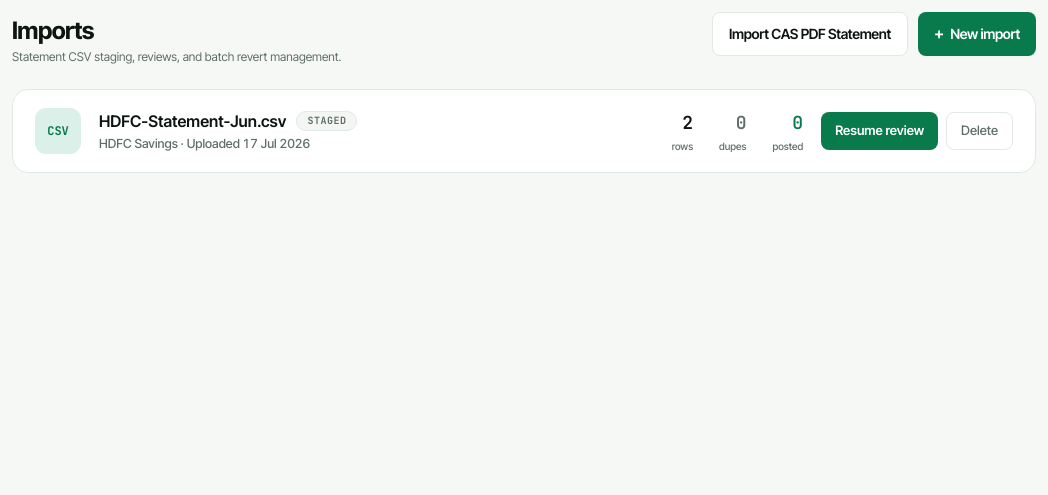
Test: ImportWizard › resumes a staged batch straight into review
This screenshot has width=1048, height=495.
Click the button "Resume review": (880, 131) [821,112,938,150]
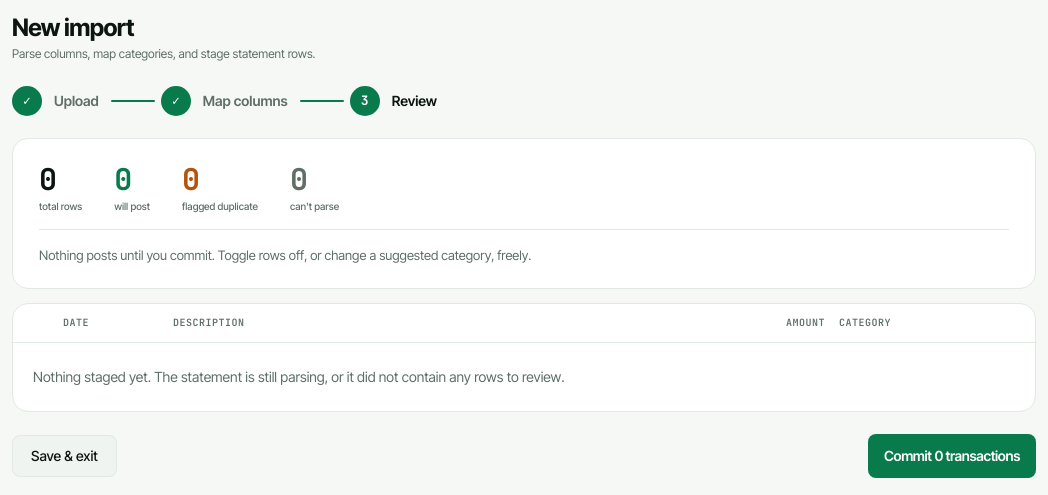
Check: the heading "New import" is shown, box [12,13,134,42]
Check: the button "Commit 0 transactions" is shown, box [868,434,1036,478]
